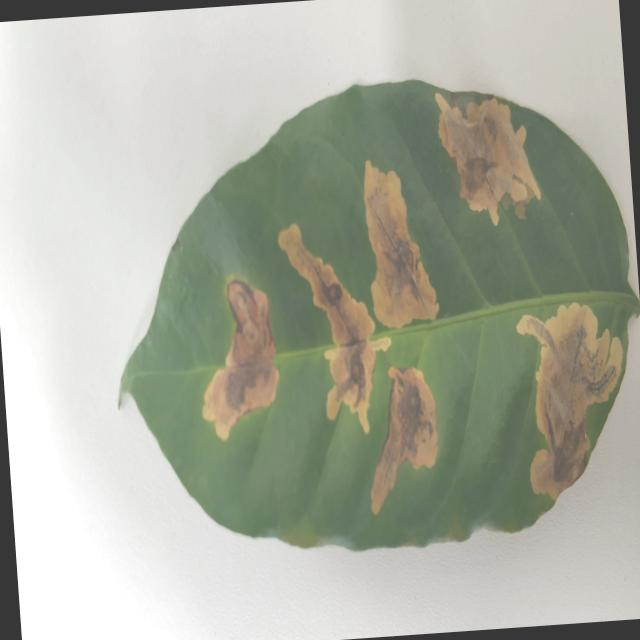PengorokDaunKopi: (278, 224, 390, 433), (516, 302, 622, 499), (435, 93, 540, 225), (364, 160, 438, 327), (202, 280, 279, 440), (370, 366, 437, 514), (324, 338, 390, 432), (171, 236, 181, 251)
